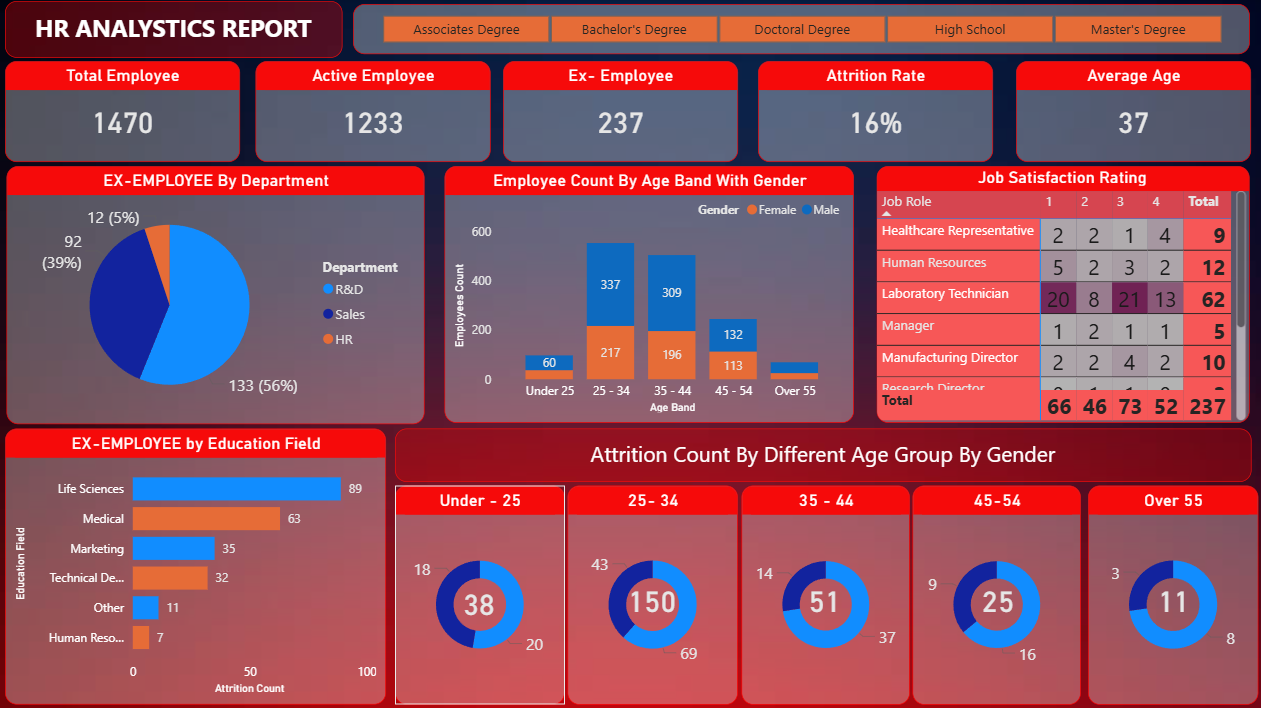

Layout of this report page (visuals, bound fields, positions):
{"tool":"powerbi","page":{"name":"DASHBAORD","canvas":[1280,720],"ordinal":2},"visuals":[{"type":"card","title":"Total Employee","fields":{"Values":["Sum(HR data.Employee Count)"]},"box":[9.5,63.6,237,101.8],"z":0},{"type":"textbox","box":[9.5,3.2,340.4,57.3],"z":1000},{"type":"card","title":"Active Employee","fields":{"Values":["Sum(HR data.CF_current Employee)"]},"box":[262.5,63.6,237,101.8],"z":2000},{"type":"card","title":"Ex- Employee","fields":{"Values":["HR data.ATTRITION_COUNT"]},"box":[512.2,63.6,237,101.8],"z":3000},{"type":"card","title":"Average Age","fields":{"Values":["Avg(HR data.Age)"]},"box":[1029.1,63.6,237,101.8],"z":4000},{"type":"card","title":"Attrition Rate","fields":{"Values":["HR data.ATTRITION_RATE"]},"box":[769.9,63.6,237,101.8],"z":5000},{"type":"pieChart","title":"EX-EMPLOYEE By Department","fields":{"Category":["HR data.Department"],"Y":["HR data.EX-EMPLOYEE"]},"box":[10,169.3,422.2,260.9],"z":6000},{"type":"columnChart","title":"Employee Count By Age Band With Gender","fields":{"Category":["HR data.CF_age band"],"Series":["HR data.Gender"],"Y":["Sum(HR data.Employee Count)"]},"box":[453.3,170.2,413.6,259.3],"z":7000},{"type":"pivotTable","title":"Job Satisfaction Rating","fields":{"Rows":["HR data.Job Role"],"Values":["HR data.EX-EMPLOYEE"],"Columns":["HR data.Job Satisfaction"]},"box":[889.2,170.2,377,259.3],"z":8000},{"type":"barChart","fields":{"Y":["HR data.EX-EMPLOYEE"],"Category":["HR data.Education Field"]},"box":[9.5,434.2,384.9,278.4],"z":9000},{"type":"textbox","box":[402.3,434.2,864.4,53.8],"z":10000},{"type":"donutChart","title":"Under - 25","fields":{"Y":["HR data.EX-EMPLOYEE"],"Category":["HR data.Gender"]},"box":[402.3,492,171.3,221.1],"z":11000},{"type":"donutChart","title":"25- 34","fields":{"Y":["HR data.EX-EMPLOYEE"],"Category":["HR data.Gender"]},"box":[577.4,491.5,171.8,221.1],"z":12000},{"type":"donutChart","title":"35 - 44","fields":{"Y":["HR data.EX-EMPLOYEE"],"Category":["HR data.Gender"]},"box":[752.4,491.5,170.2,221.1],"z":13000},{"type":"donutChart","title":"45-54","fields":{"Y":["HR data.EX-EMPLOYEE"],"Category":["HR data.Gender"]},"box":[925.7,491.5,170.2,221.1],"z":14000},{"type":"donutChart","title":"Over 55","fields":{"Y":["HR data.EX-EMPLOYEE"],"Category":["HR data.Gender"]},"box":[1102.3,491.5,171.8,221.1],"z":15000},{"type":"slicer","fields":{"Values":["HR data.Education"]},"box":[361.1,6.4,905.1,50.9],"z":16000},{"type":"card","fields":{"Values":["HR data.EX-EMPLOYEE"]},"box":[460.1,585.6,53.8,49.8],"z":17000},{"type":"card","fields":{"Values":["HR data.EX-EMPLOYEE"]},"box":[983.9,583.6,53.8,49.8],"z":18000},{"type":"card","fields":{"Values":["HR data.EX-EMPLOYEE"]},"box":[808.6,583.6,53.8,49.8],"z":19000},{"type":"card","fields":{"Values":["HR data.EX-EMPLOYEE"]},"box":[629.4,583.6,63.7,49.8],"z":20000},{"type":"card","fields":{"Values":["HR data.EX-EMPLOYEE"]},"box":[1161.2,583.6,53.8,49.8],"z":21000}]}

Visuals, with their boxes in screenshot pixels (x1, y1, x2, y2), scaled from the page's 1280x720 canvas onto the 1261x708 screenshot:
"Total Employee" card: detection(9, 63, 243, 163)
textbox: detection(9, 3, 345, 59)
"Active Employee" card: detection(259, 63, 492, 163)
"Ex- Employee" card: detection(505, 63, 738, 163)
"Average Age" card: detection(1014, 63, 1247, 163)
"Attrition Rate" card: detection(758, 63, 992, 163)
"EX-EMPLOYEE By Department" pieChart: detection(10, 166, 426, 423)
"Employee Count By Age Band With Gender" columnChart: detection(447, 167, 854, 422)
"Job Satisfaction Rating" pivotTable: detection(876, 167, 1247, 422)
barChart - HR data.EX-EMPLOYEE x HR data.Education Field: detection(9, 427, 389, 701)
textbox: detection(396, 427, 1248, 480)
"Under - 25" donutChart: detection(396, 484, 565, 701)
"25- 34" donutChart: detection(569, 483, 738, 701)
"35 - 44" donutChart: detection(741, 483, 909, 701)
"45-54" donutChart: detection(912, 483, 1080, 701)
"Over 55" donutChart: detection(1086, 483, 1255, 701)
slicer - HR data.Education: detection(356, 6, 1247, 56)
card - HR data.EX-EMPLOYEE: detection(453, 576, 506, 625)
card - HR data.EX-EMPLOYEE: detection(969, 574, 1022, 623)
card - HR data.EX-EMPLOYEE: detection(797, 574, 850, 623)
card - HR data.EX-EMPLOYEE: detection(620, 574, 683, 623)
card - HR data.EX-EMPLOYEE: detection(1144, 574, 1197, 623)
